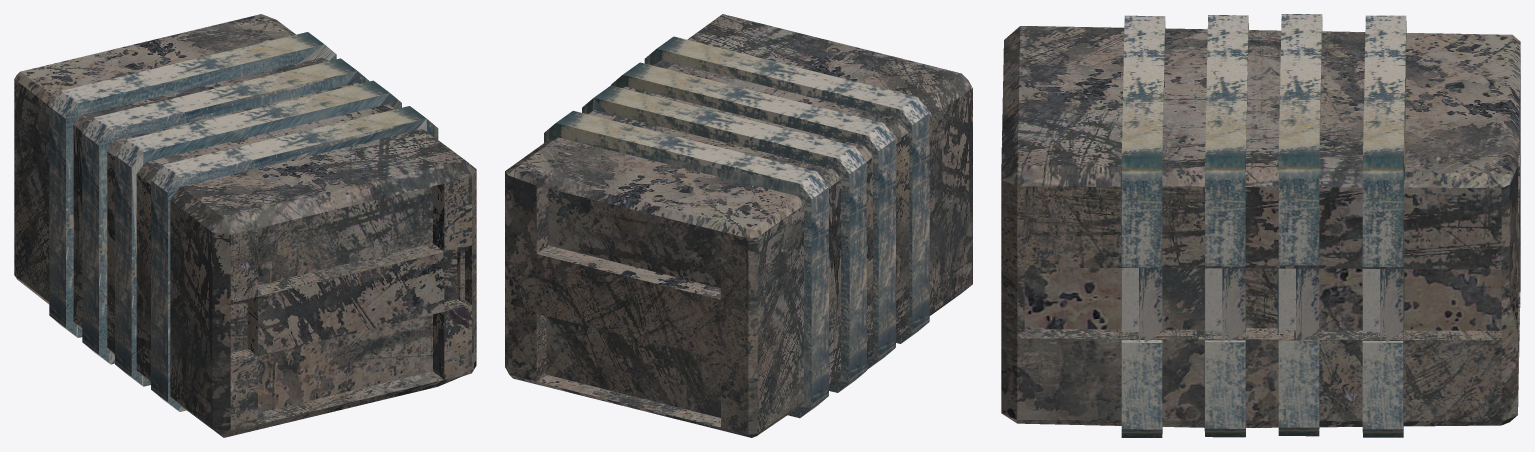
The model's file is municion.obj.
The picture shows the model from 3 angles, left to right: view 1: azimuth 30°, elevation 25°; view 2: azimuth 150°, elevation 25°; view 3: azimuth 270°, elevation 25°; orthographic projection. The views are drawn at different scales.
Parts seen in each view (by area): view 1: polySurface1031, group1; view 2: polySurface1031, group1; view 3: polySurface1031, group1.
Boxes of the visible parts, x1=… form: polySurface1031: x1=14, y1=14, x2=476, y2=437; group1: x1=49, y1=32, x2=438, y2=411; polySurface1031: x1=505, y1=14, x2=972, y2=437; group1: x1=544, y1=36, x2=929, y2=418; polySurface1031: x1=1001, y1=26, x2=1520, y2=427; group1: x1=1121, y1=14, x2=1406, y2=437.
Size of the model in its own units: 3.27 by 2.69 by 4.53.
